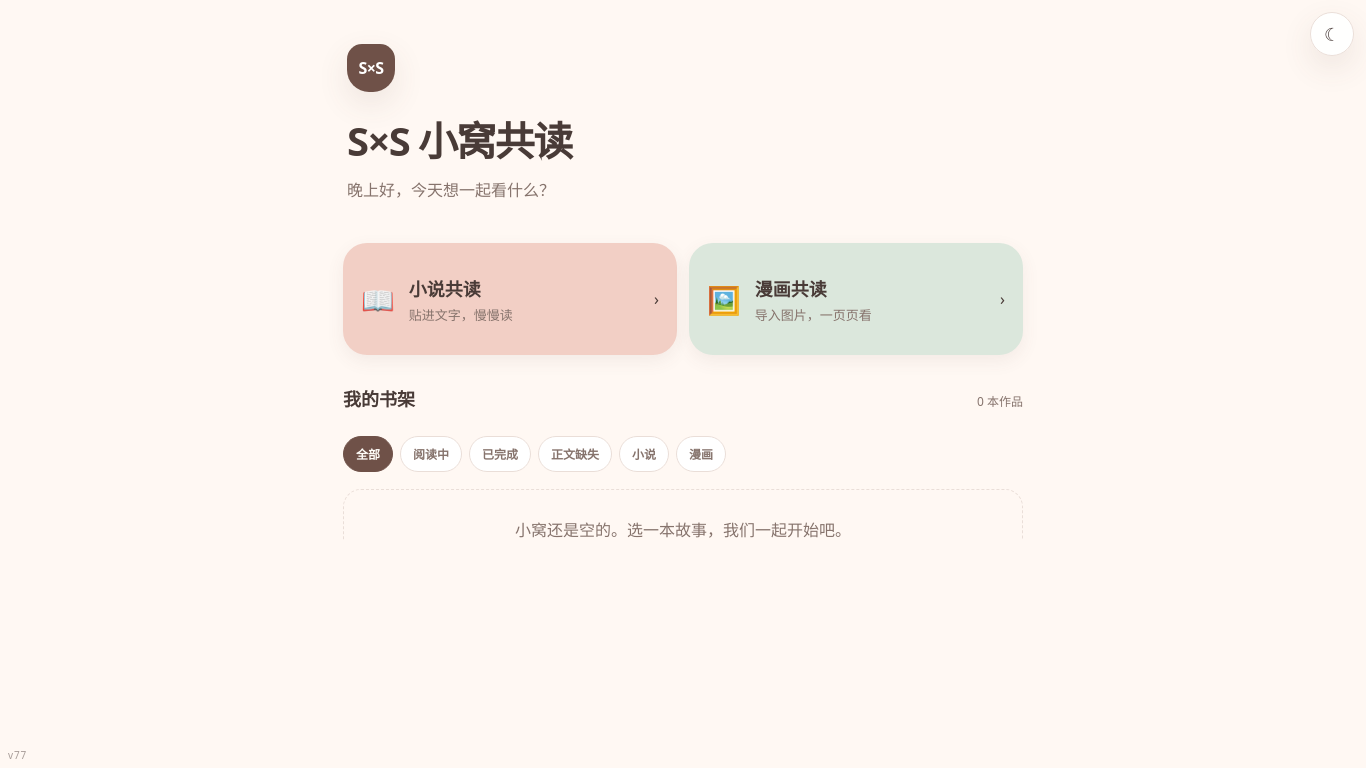
Scenario: App › opens the novel setup without exposing model API settings
Click the button "📖 小说共读 贴进文字，慢慢读 ›".
click(378, 299)  # box [343,243,677,355]
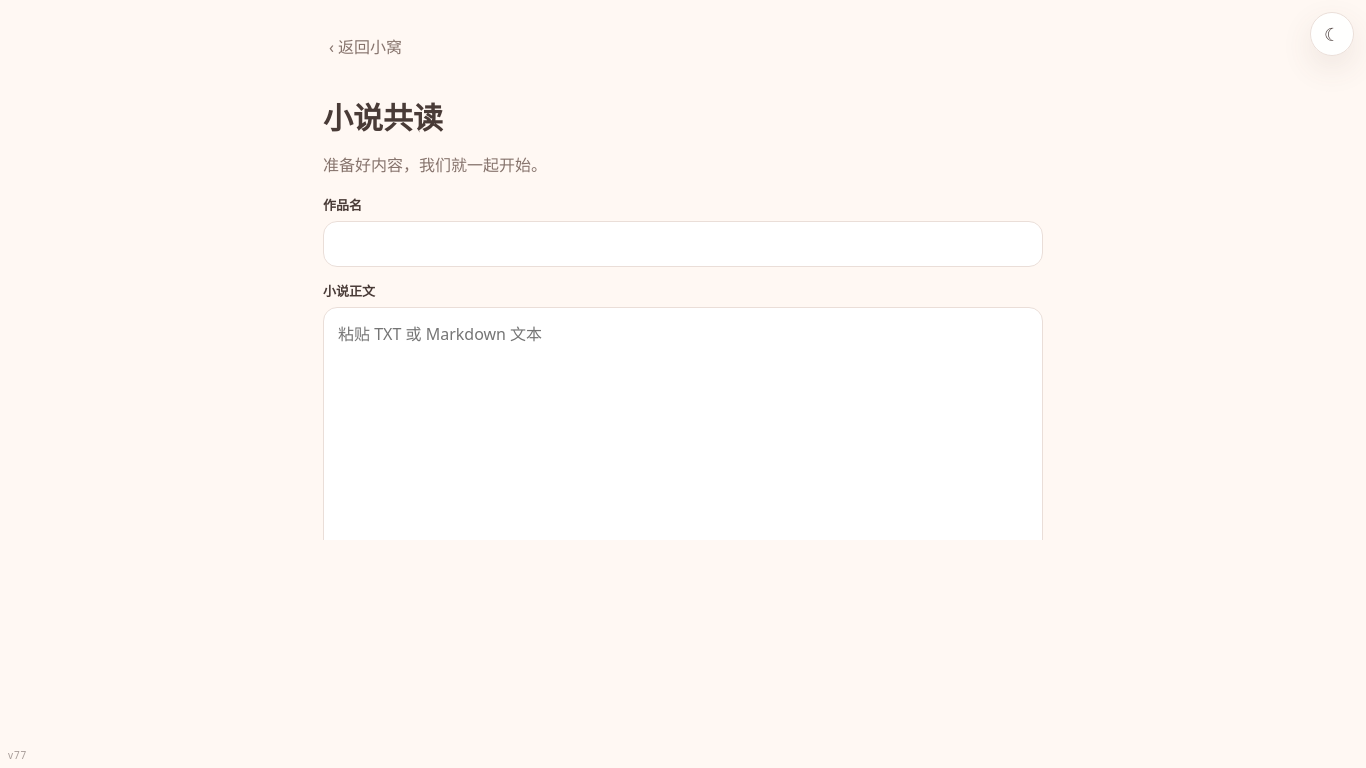
Result: the field labelled "作品名" is shown at [323,221,1043,267]
